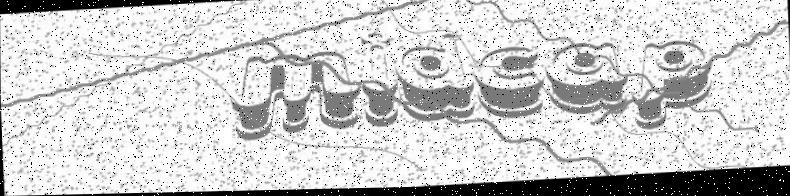a: (544, 43, 629, 120)
c: (474, 48, 545, 121)
d: (395, 33, 476, 124)
i: (359, 34, 399, 129)
m: (231, 52, 361, 141)
p: (632, 43, 712, 133)
